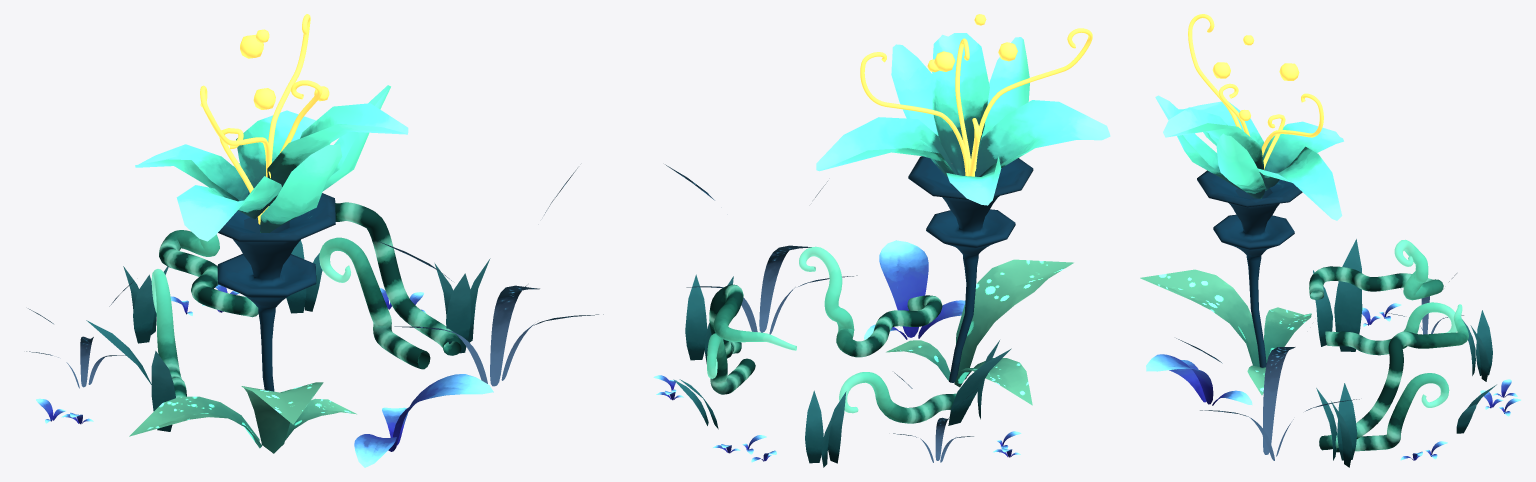
Rendered from detalhe_1.fbx.
The picture shows the model from 3 angles, left to right: view 1: azimuth 30°, elevation 25°; view 2: azimuth 150°, elevation 25°; view 3: azimuth 270°, elevation 25°; orthographic projection. The views are drawn at different scales.
Parts seen in each view (by area): view 1: flor, planta_9, planta_10, planta_8.002, planta_5.001, planta_5; view 2: flor, planta_9, planta_10, planta_8.002, planta_5.001, planta_5; view 3: flor, planta_9, planta_10, planta_5.001, planta_8.002.
Boxes of the visible parts, bbox=[...] form: flor: bbox=[129, 14, 408, 453]; planta_9: bbox=[151, 163, 461, 397]; planta_10: bbox=[86, 240, 490, 431]; planta_8.002: bbox=[354, 374, 493, 467]; planta_5.001: bbox=[378, 168, 603, 386]; planta_5: bbox=[26, 280, 134, 388]; flor: bbox=[816, 14, 1110, 405]; planta_9: bbox=[707, 246, 971, 423]; planta_10: bbox=[673, 274, 1011, 467]; planta_8.002: bbox=[864, 240, 965, 339]; planta_5.001: bbox=[665, 164, 857, 334]; planta_5: bbox=[893, 372, 977, 462]; flor: bbox=[1140, 14, 1343, 395]; planta_9: bbox=[1309, 239, 1468, 452]; planta_10: bbox=[1313, 239, 1496, 467]; planta_5.001: bbox=[1176, 338, 1359, 460]; planta_8.002: bbox=[1146, 354, 1252, 405].
Bounding box in the file's own units: 436 × 370 × 382.
